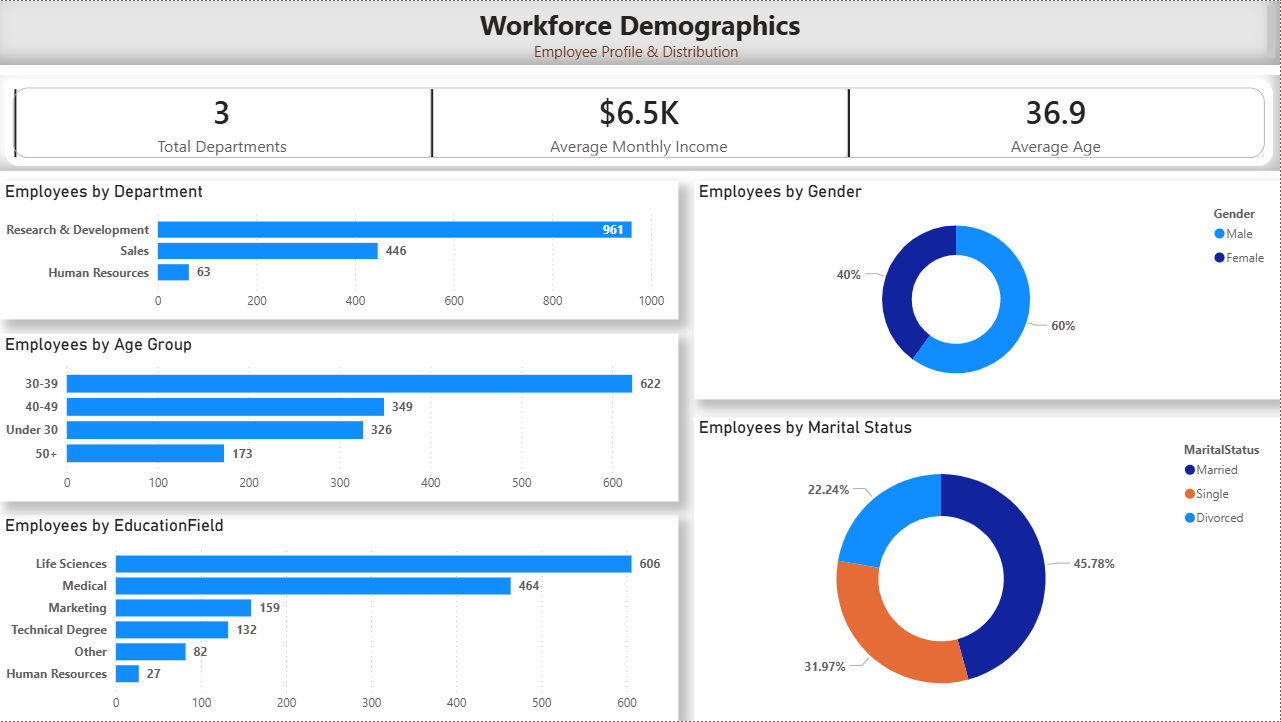

This screenshot's page, from the dashboard's own definition file:
{"tool":"powerbi","page":{"name":"Workforce Demographics","canvas":[1280,720],"ordinal":2},"visuals":[{"type":"textbox","box":[0,0,1280,63.8],"z":0},{"type":"cardVisual","fields":{"Data":["HR_Data.Total Departments","HR_Data.Average Monthly Income","HR_Data.Average Age"]},"box":[0,73.2,1280.5,96.3],"z":1},{"type":"clusteredBarChart","title":"Employees by Department","fields":{"Category":["HR_Data.Department"],"Y":["Sum(HR_Data.EmployeeCount)"]},"box":[0,180,678,138],"z":2},{"type":"clusteredBarChart","title":"Employees by EducationField","fields":{"Category":["HR_Data.EducationField"],"Y":["Sum(HR_Data.EmployeeCount)"]},"box":[0,514,678,206],"z":3},{"type":"clusteredBarChart","title":"Employees by Age Group ","fields":{"Category":["HR_Data.Age Group "],"Y":["Sum(HR_Data.EmployeeCount)"]},"box":[0,332,678,168],"z":4},{"type":"donutChart","title":"Employees by Gender","fields":{"Category":["HR_Data.Gender"],"Y":["Sum(HR_Data.EmployeeCount)"]},"box":[694,180,586,218],"z":5},{"type":"donutChart","title":"Employees by Marital Status","fields":{"Category":["HR_Data.MaritalStatus"],"Y":["Sum(HR_Data.EmployeeCount)"]},"box":[694,416,586,304],"z":6}]}

Visuals, with their boxes in screenshot pixels (x1, y1, x2, y2), scaled from the page's 1280x720 canvas onto the 1281x722 screenshot:
textbox: [0,0,1280,64]
cardVisual - HR_Data.Total Departments x HR_Data.Average Monthly Income: [0,73,1280,170]
"Employees by Department" clusteredBarChart: [0,180,679,319]
"Employees by EducationField" clusteredBarChart: [0,515,679,721]
"Employees by Age Group " clusteredBarChart: [0,333,679,501]
"Employees by Gender" donutChart: [695,180,1280,399]
"Employees by Marital Status" donutChart: [695,417,1280,721]
